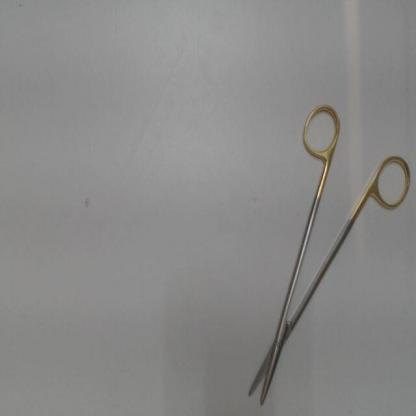7 Metzenbaum Scissors: (243, 101, 413, 412)
